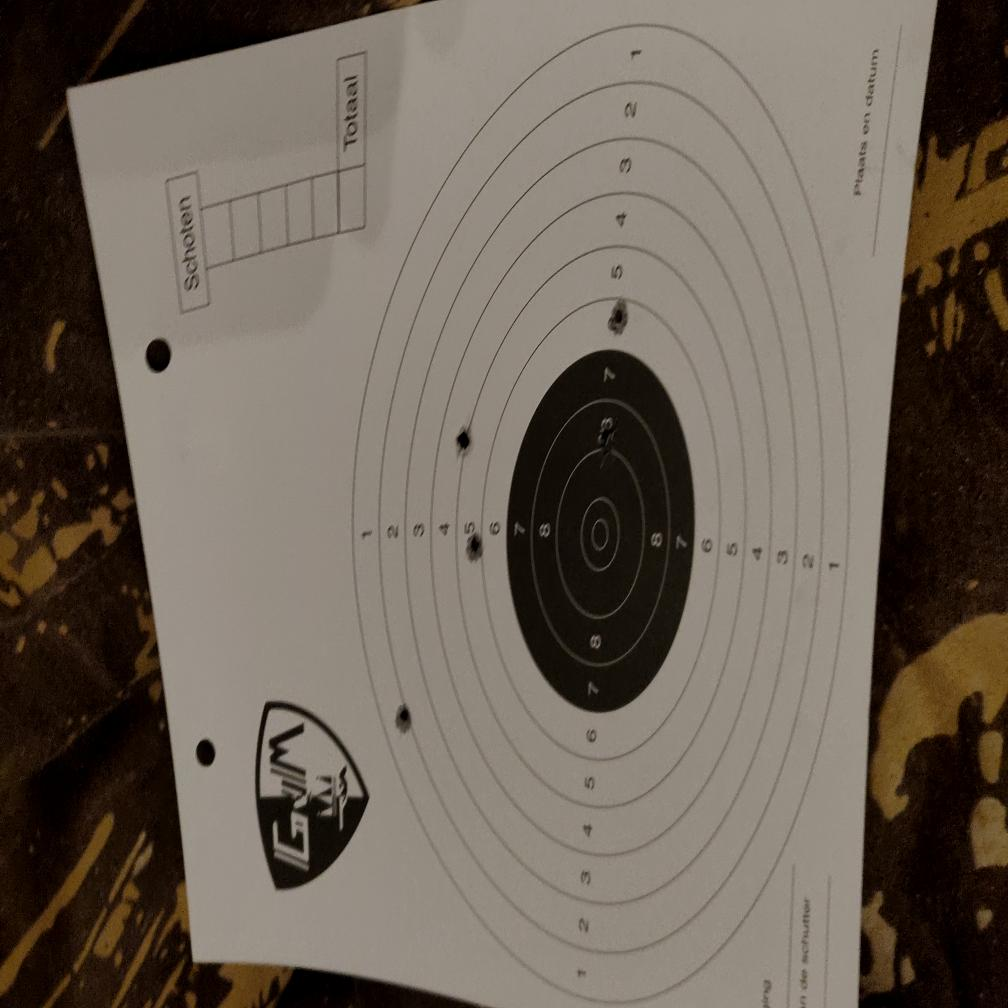2: (394, 700, 412, 738)
5: (454, 424, 473, 462)
6: (608, 295, 630, 337), (464, 530, 484, 568)
9: (598, 419, 619, 467)
Target: (353, 20, 851, 1007)
black_contour: (504, 350, 695, 715)
